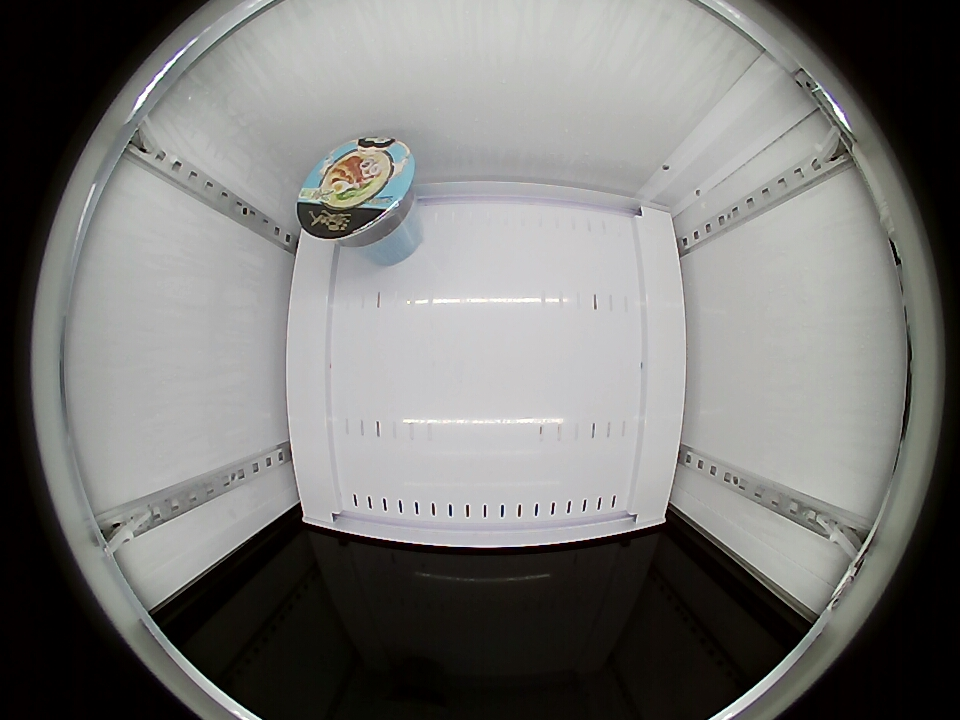tangdaren3: (297, 136, 416, 246)
